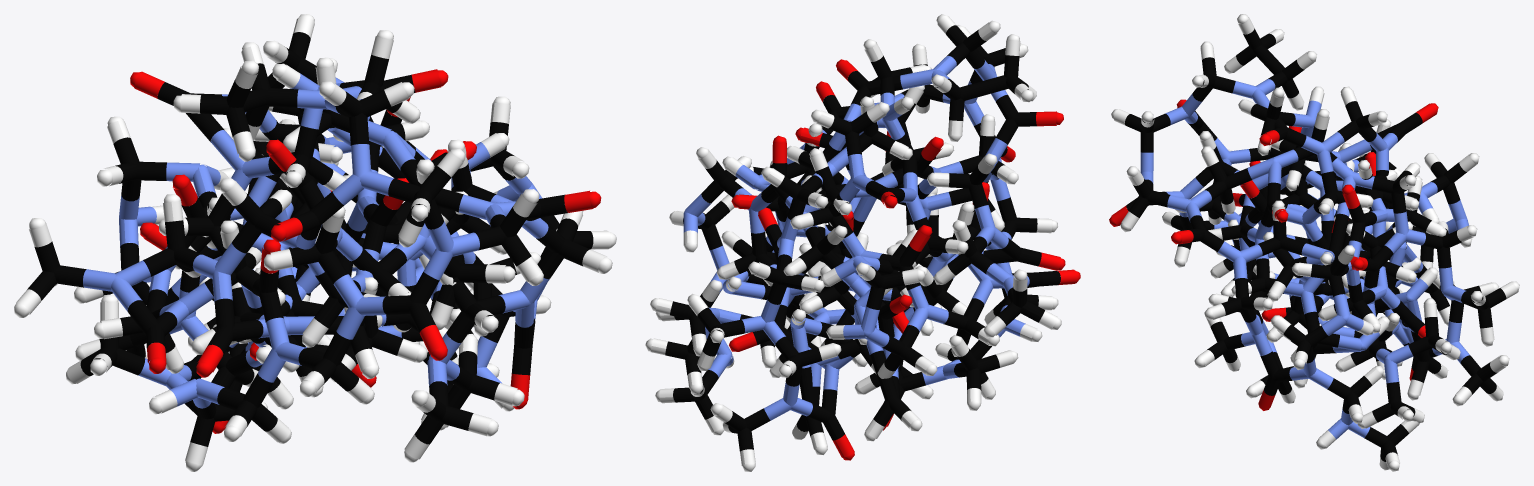
Rendered from Duroplast_Stick_black.glb.
The picture shows the model from 3 angles, left to right: view 1: azimuth 30°, elevation 25°; view 2: azimuth 150°, elevation 25°; view 3: azimuth 270°, elevation 25°; orthographic projection. The views are drawn at different scales.
Visible parts, largest first — view 1: VCyl124, VCyl232; view 2: VCyl001, VCyl217, VCyl016; view 3: VCyl394, VCyl001, VCyl124.
Part boxes in pixels (x1,y1,x2,y2): VCyl124: (210, 130, 244, 170); VCyl232: (382, 132, 415, 170); VCyl001: (959, 75, 1008, 100); VCyl217: (870, 350, 898, 401); VCyl016: (900, 69, 934, 89); VCyl394: (1329, 213, 1348, 251); VCyl001: (1253, 44, 1284, 74); VCyl124: (1338, 139, 1372, 163).
Size of the model in its own units: 1.75 by 1.55 by 1.61.
